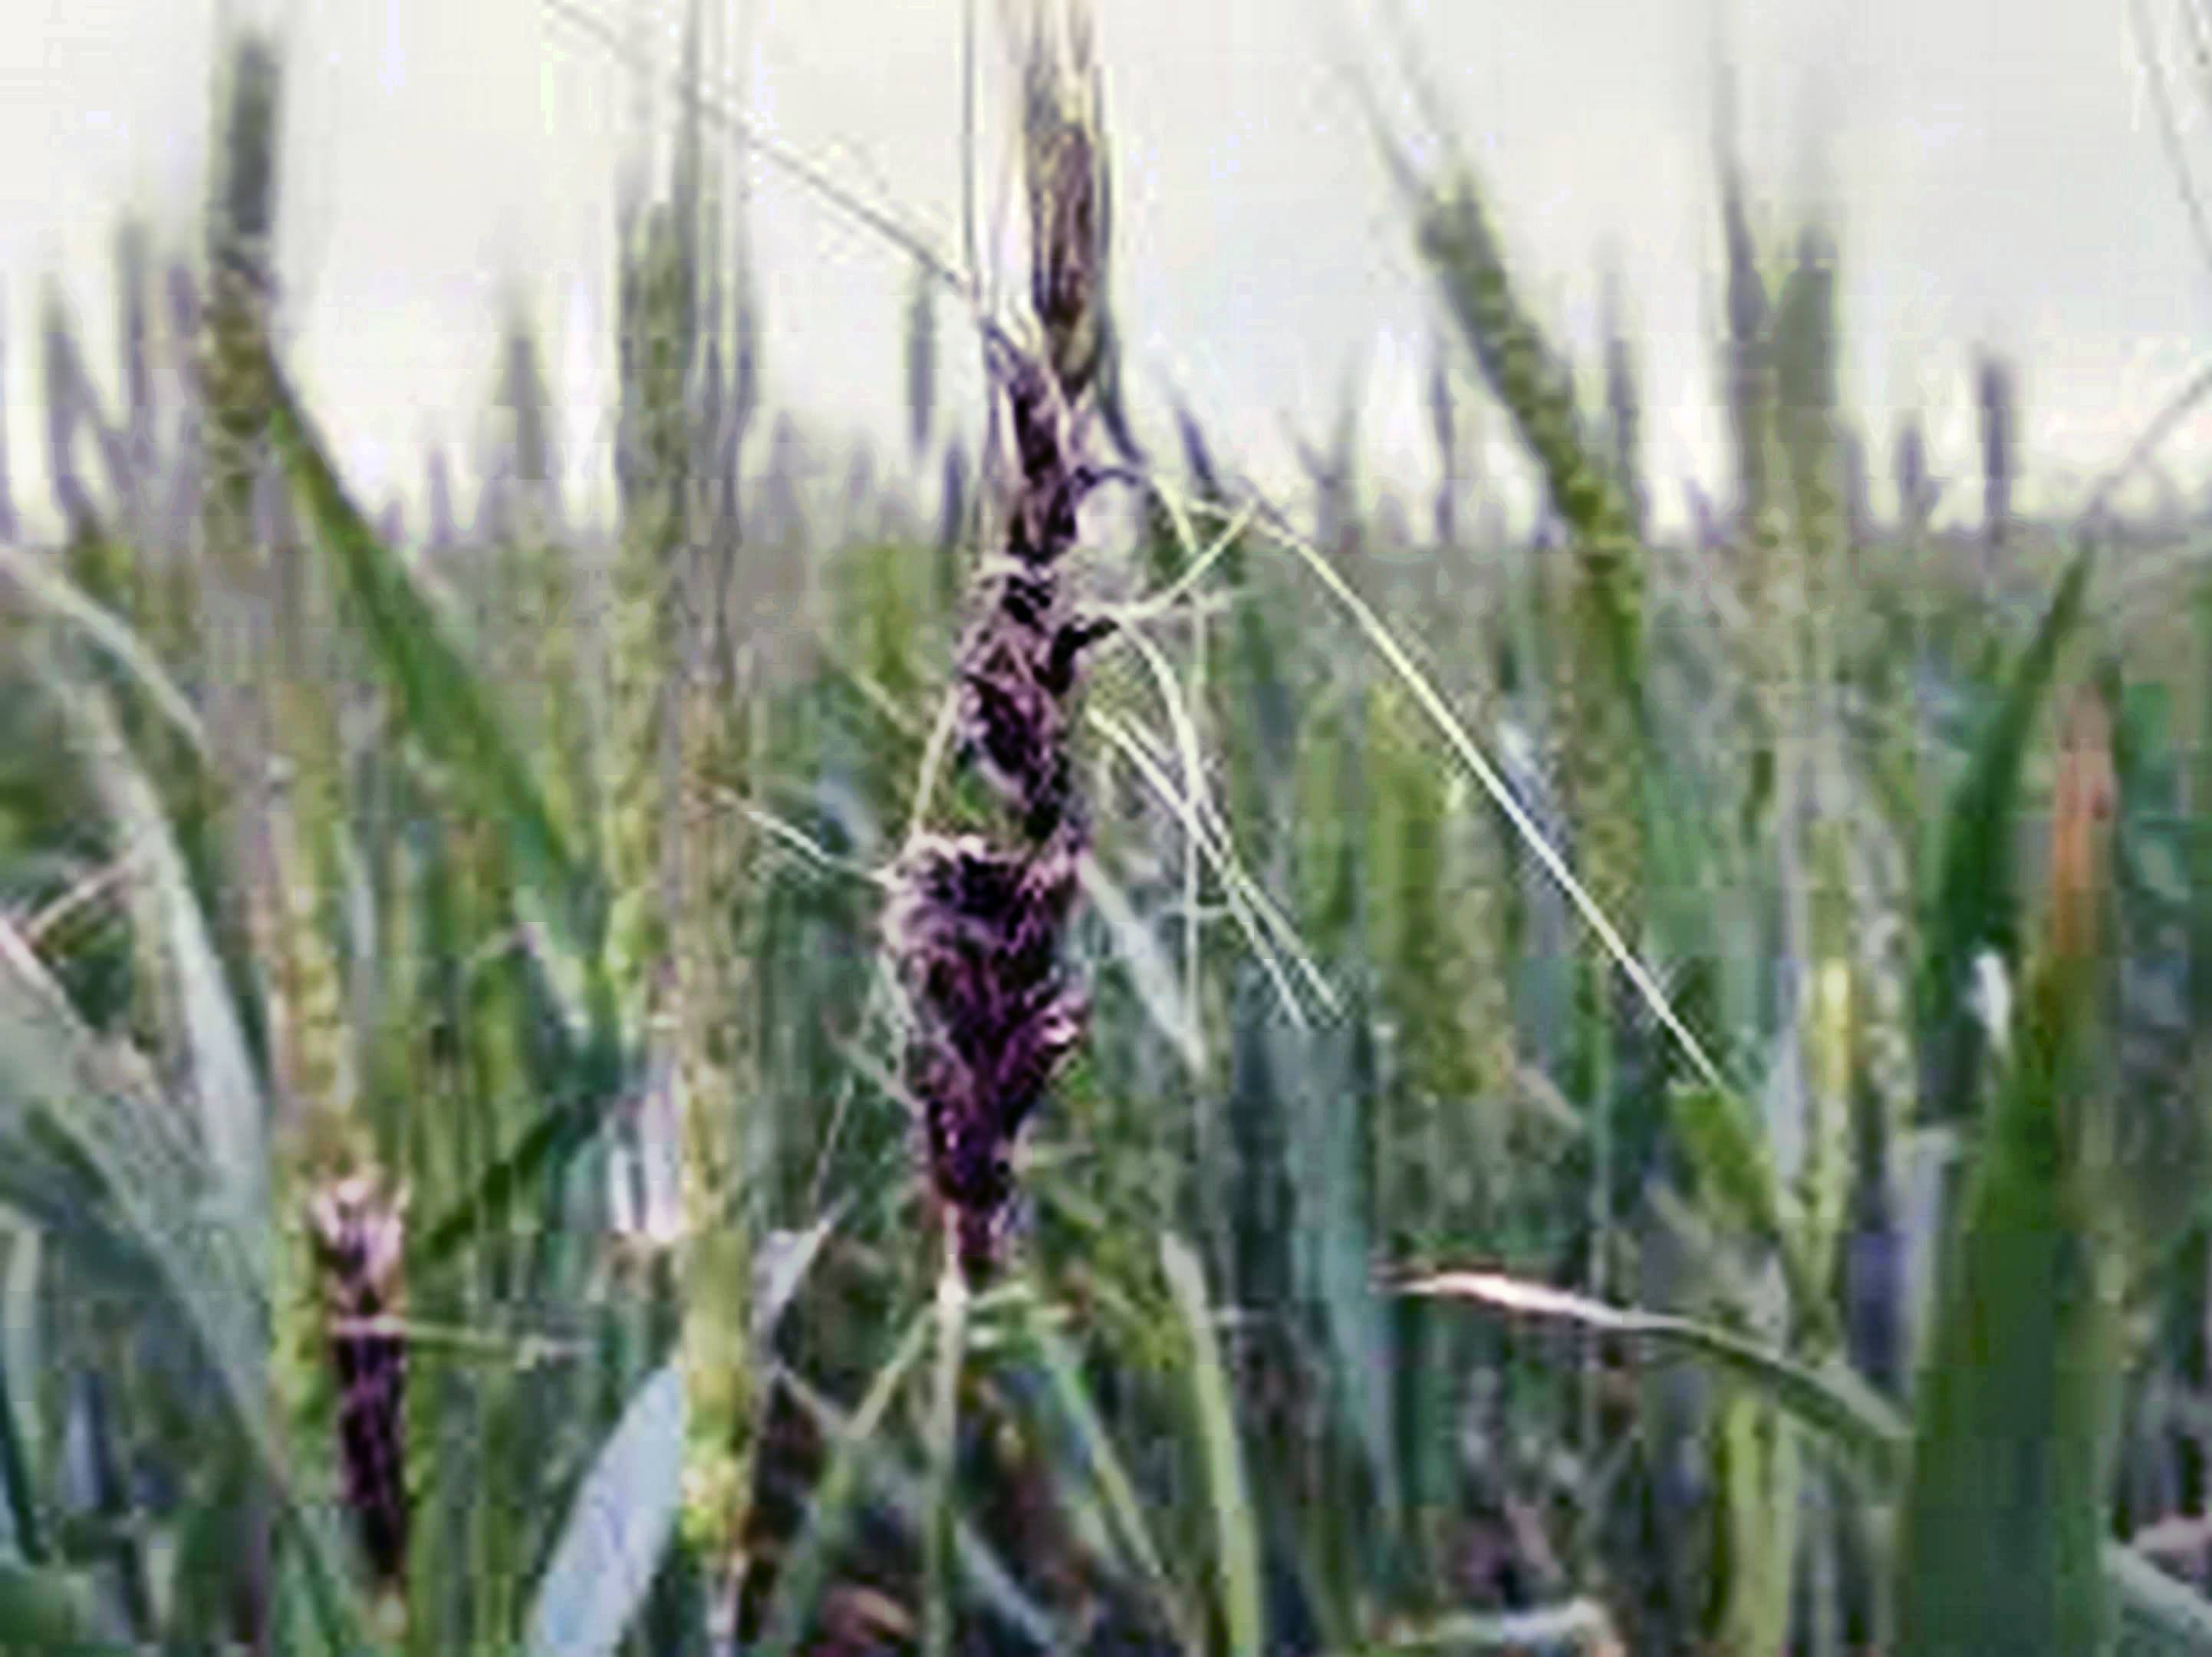Wheat Loose Smut: (870, 183, 1161, 1225)
